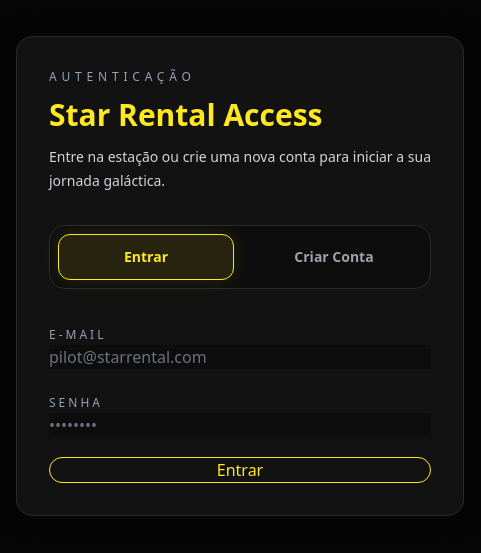
Test case: Login › Validation › should show error when password is empty
Type "pilot@test.com" into the field labelled "E-mail".
click(240, 357); type("pilot@test.com")  # box x1=49 y1=345 x2=431 y2=369
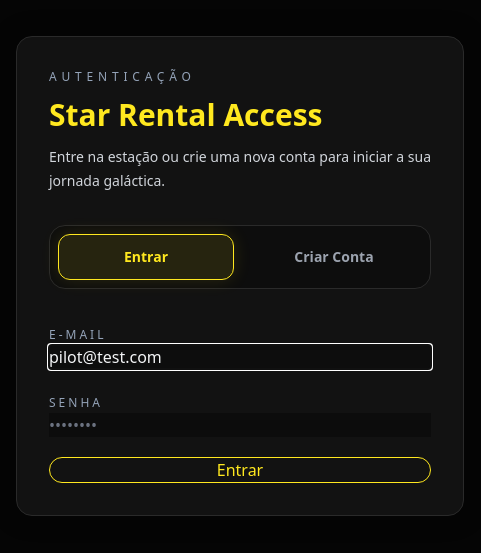
Click the submit button.
click(240, 470)  # box x1=49 y1=457 x2=431 y2=483
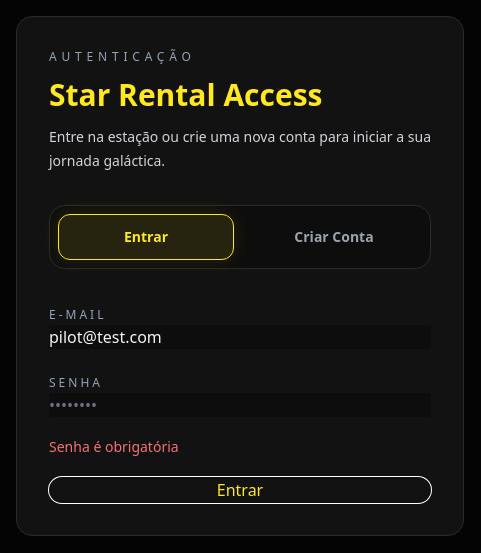
expect the text "Senha é obrigatória" is shown: met, box x1=49 y1=437 x2=179 y2=456
